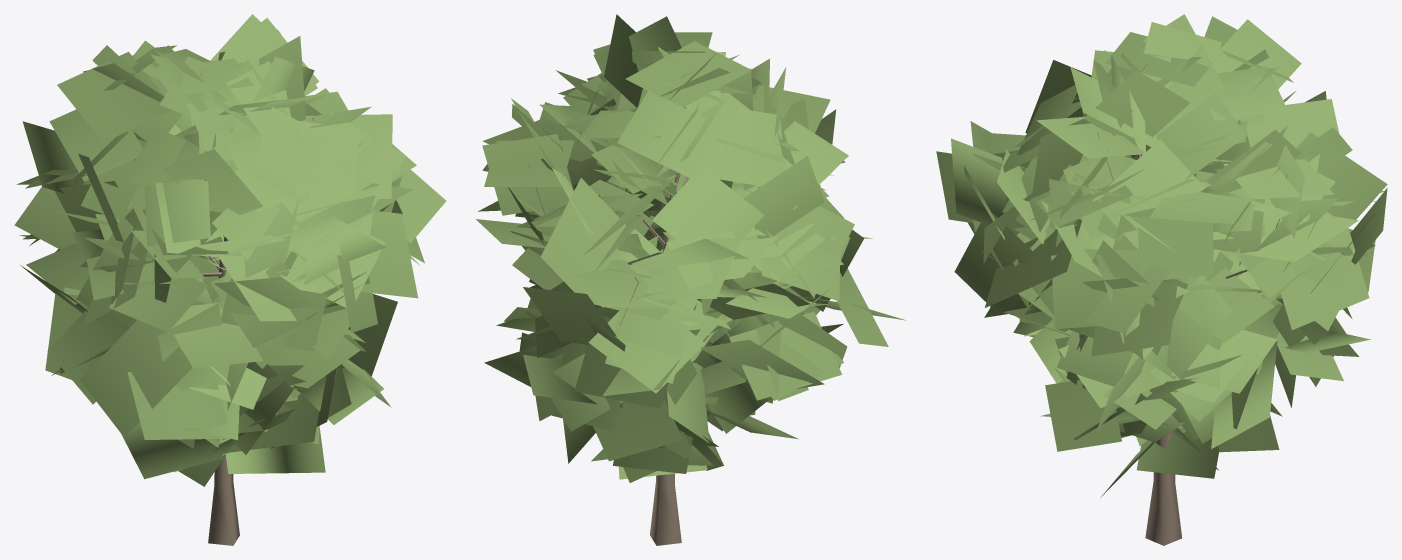
Rendered from Maple_1_lod2.glb.
3 renders of one model, left to right at view 1: azimuth 30°, elevation 25°; view 2: azimuth 150°, elevation 25°; view 3: azimuth 270°, elevation 25°, orthographic.
Visible parts, largest first — view 1: Maple_1_lod2; view 2: Maple_1_lod2; view 3: Maple_1_lod2.
Part boxes in pixels (x1,y1,x2,y2): Maple_1_lod2: [14, 14, 446, 545]; Maple_1_lod2: [476, 14, 906, 545]; Maple_1_lod2: [936, 14, 1387, 545].
Size of the model in its own units: 17.06 by 21.29 by 17.46.
